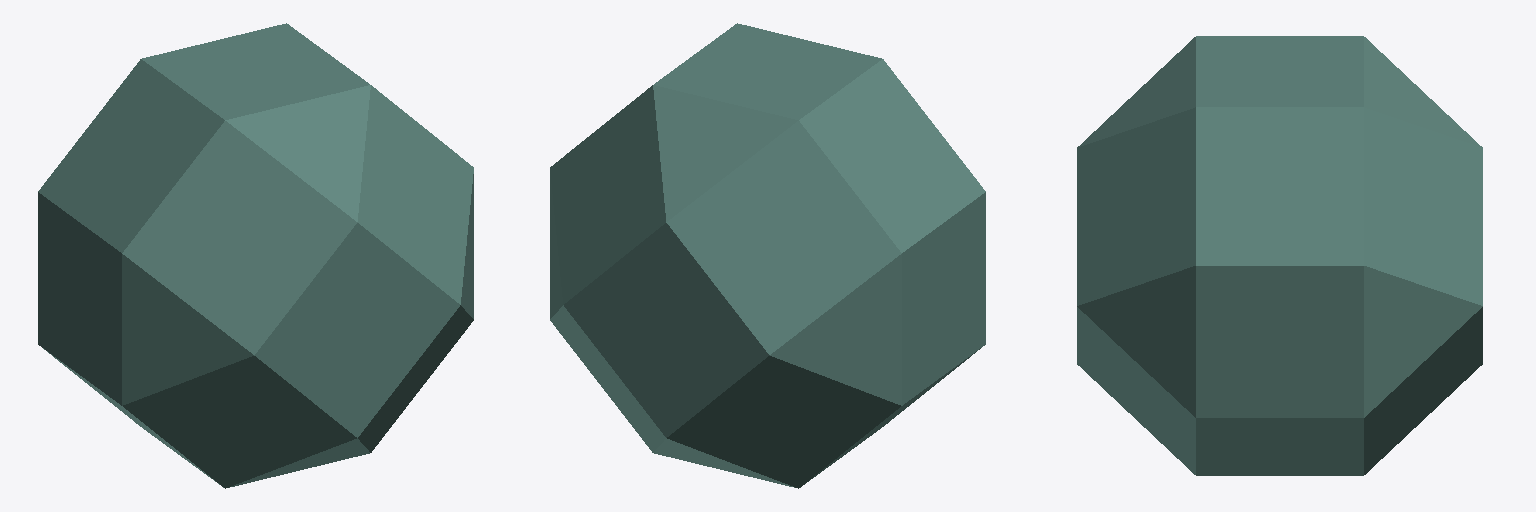
File: catom_max_vs.obj
3 views of the same model, side by side, from view 1: azimuth 30°, elevation 25°; view 2: azimuth 150°, elevation 25°; view 3: azimuth 270°, elevation 25° (orthographic).
Parts seen in each view (by area): view 1: catom_max_vs; view 2: catom_max_vs; view 3: catom_max_vs.
Boxes of the visible parts, box(x1,y1,x2,y2) form: catom_max_vs: box(38, 23, 473, 488); catom_max_vs: box(550, 23, 985, 488); catom_max_vs: box(1077, 36, 1482, 475).
Bounding box in the file's own units: 9.99 × 9.99 × 9.99.